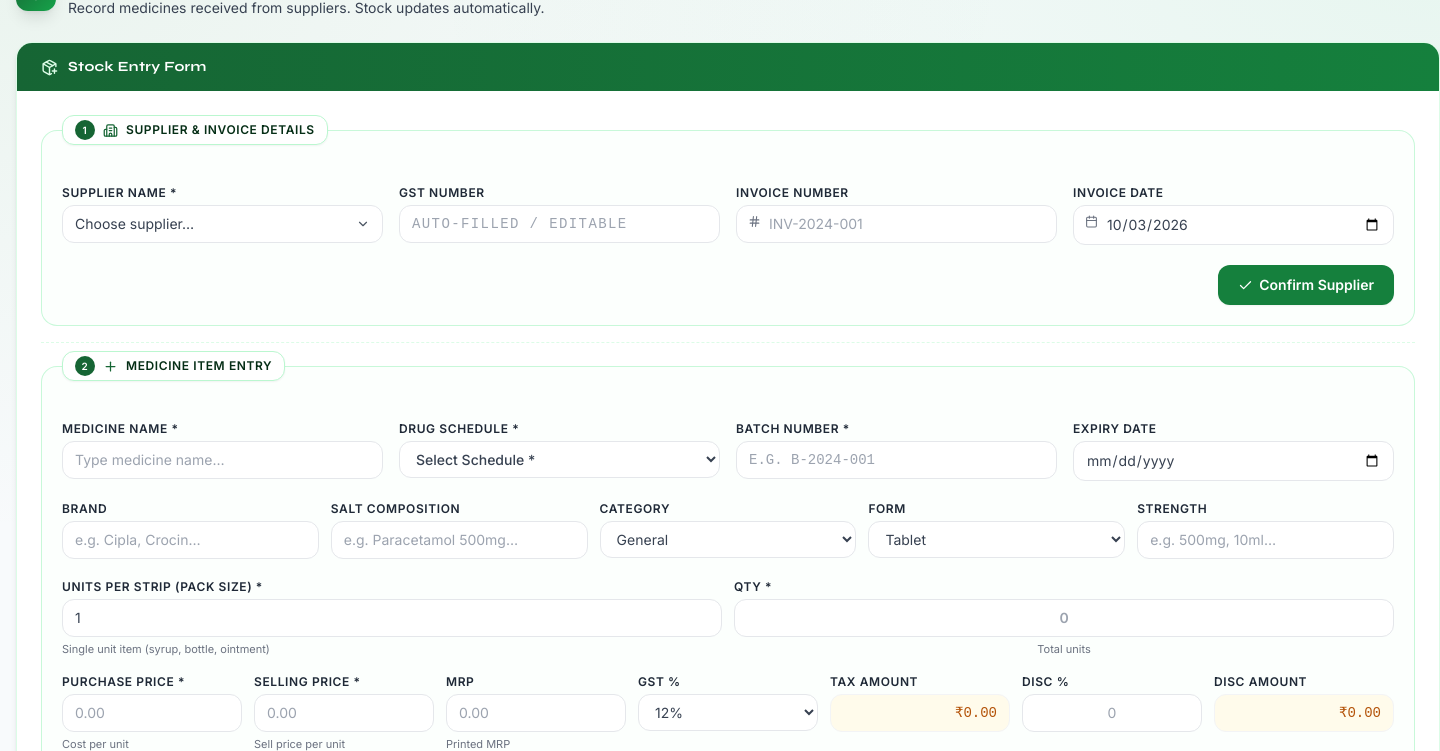
Test case: Integration: Purchases Flow (Items Table -> Schedule Validation -> API Submission) › adds an existing medicine entry with catalog schedule badge
Type "Amoxicillin 250mg" into the dropdown with placeholder "Type medicine name…" at (222, 460), box [62,441,383,479]
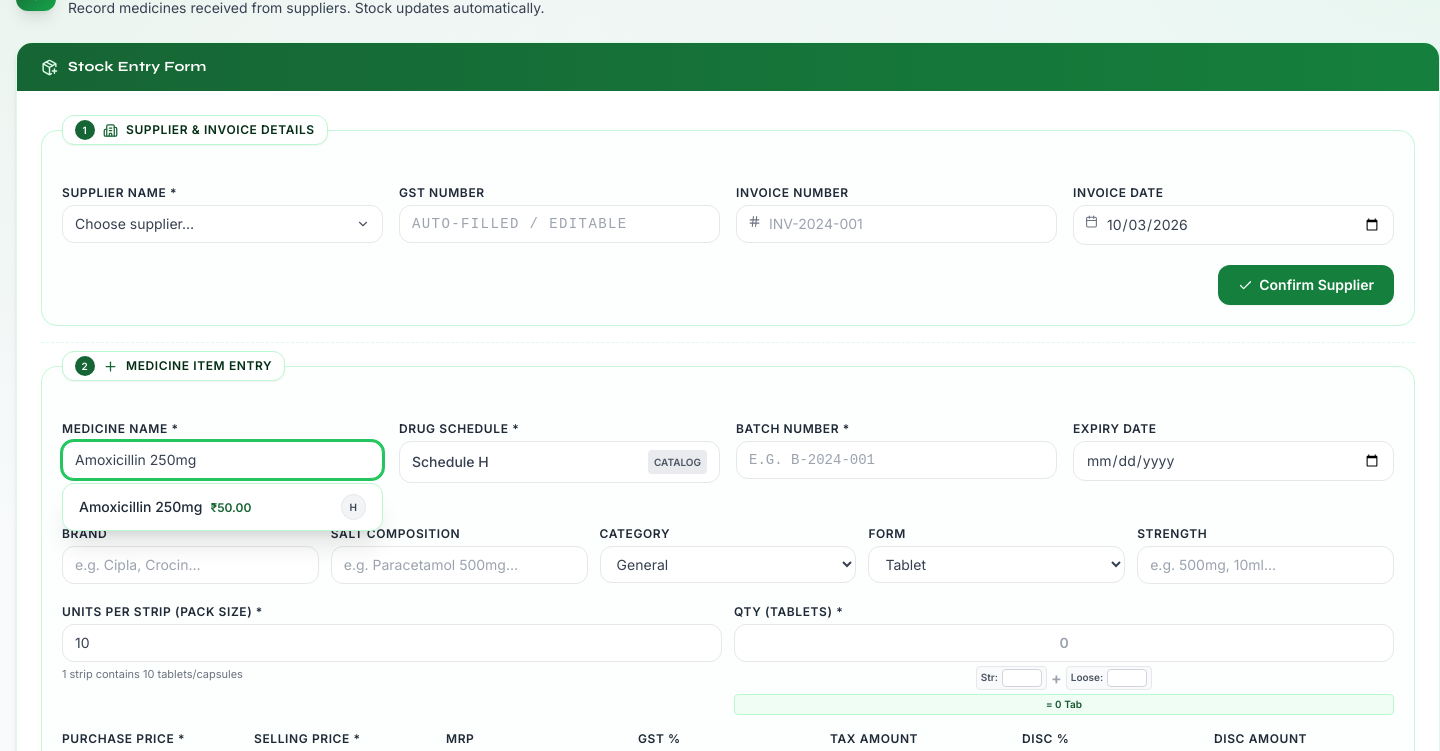
Check: the text "Amoxicillin 250mg" is shown, box [79,498,202,515]
Click the option "Amoxicillin 250mg₹50.00 H" at (222, 507), box [63,484,382,530]
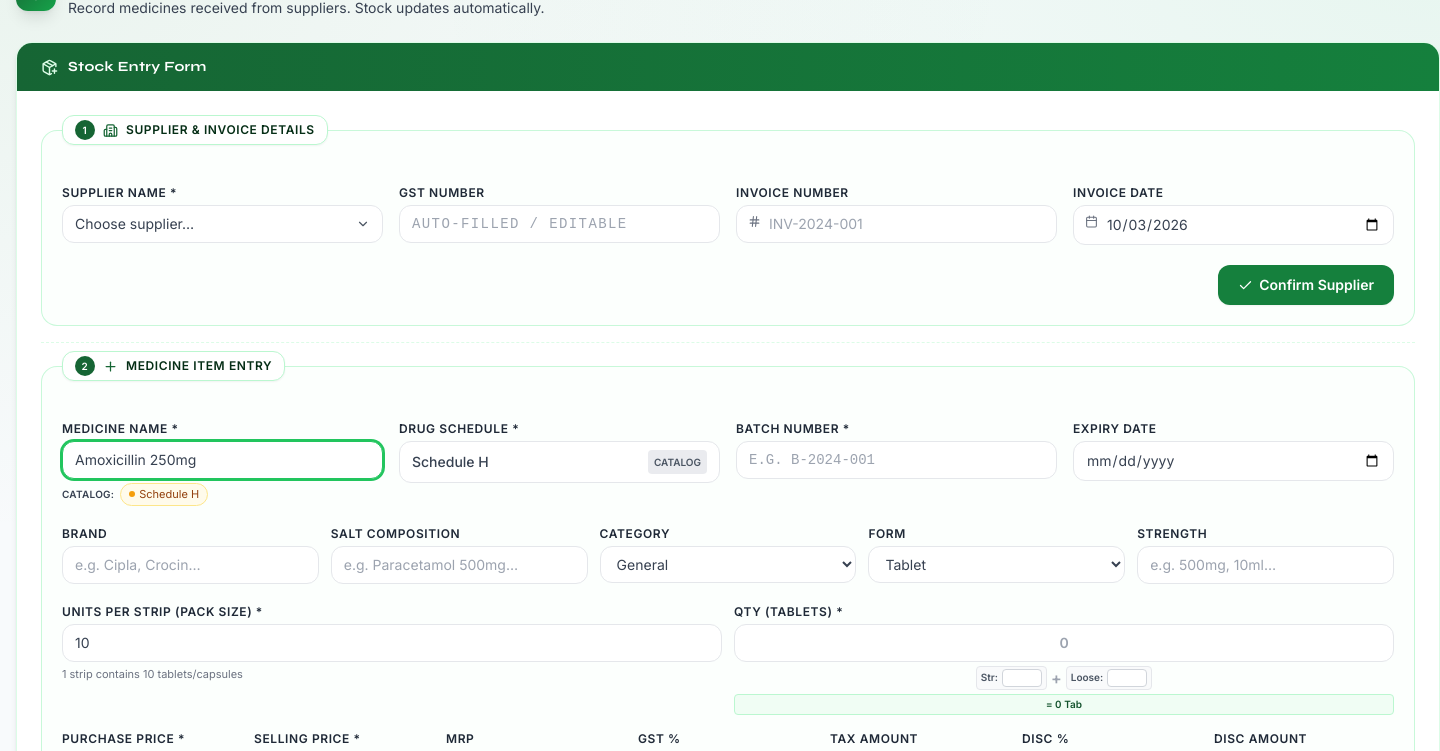
Check: the text "Schedule H" is shown, box [120,483,208,506]
Type "BATCH-H-001" into the field labelled "Batch Number *" at (896, 460), box [736,441,1057,479]
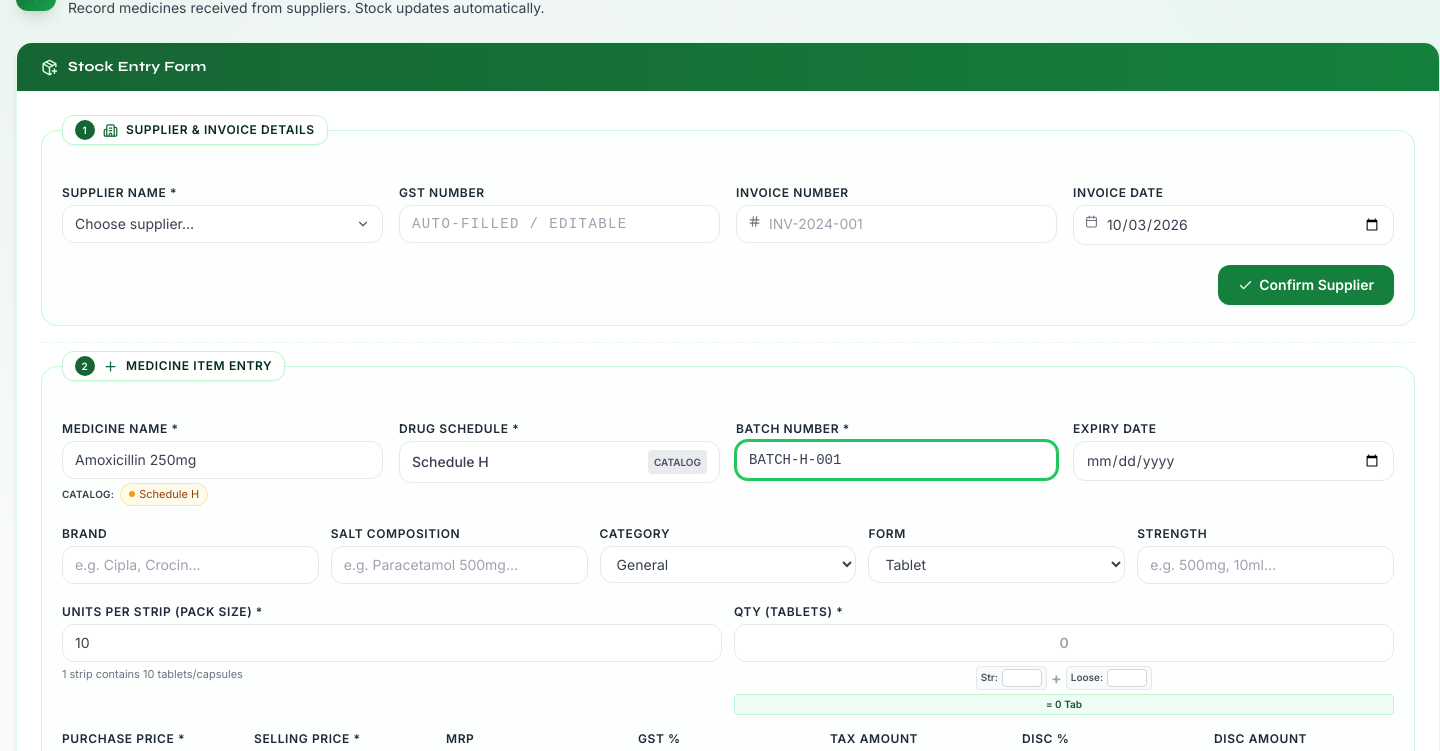
Type "50" into the number field labelled "Qty (Tablets) *" at (1064, 642), box [734,624,1394,662]
(page scrolled)
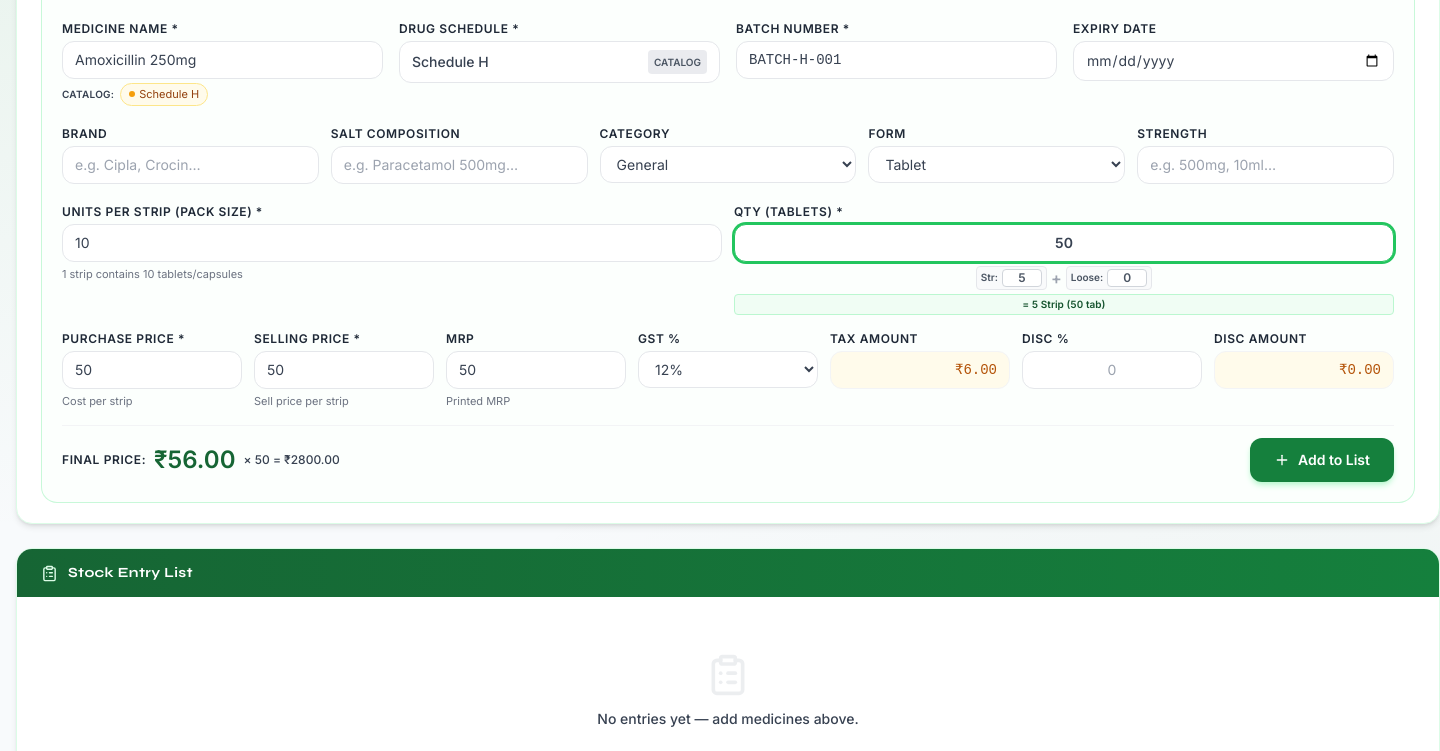
Replace the text in the number field labelled "Purchase Price *" with "45" at (152, 370), box [62,350,242,388]
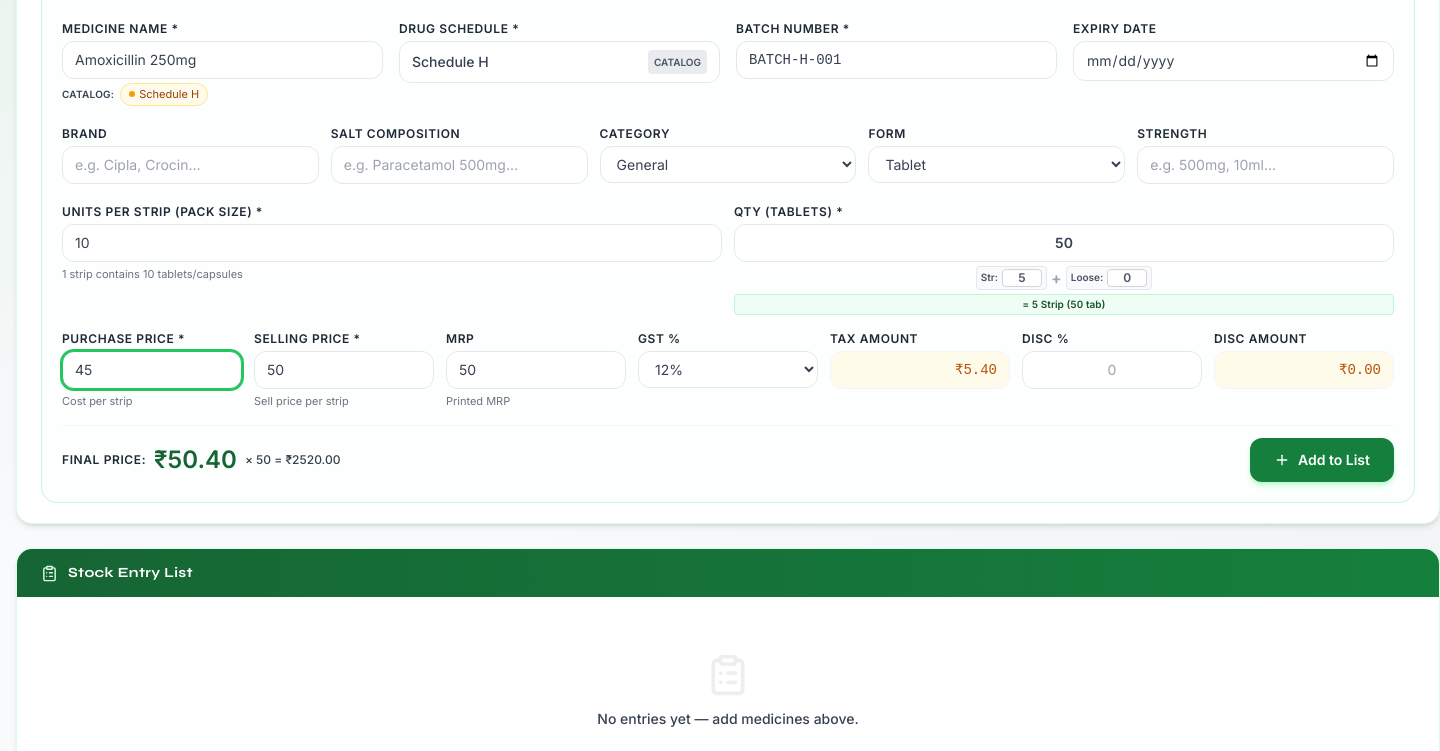
Click the button "Add to List" at (1322, 460), box [1250,438,1394,482]
(page scrolled)
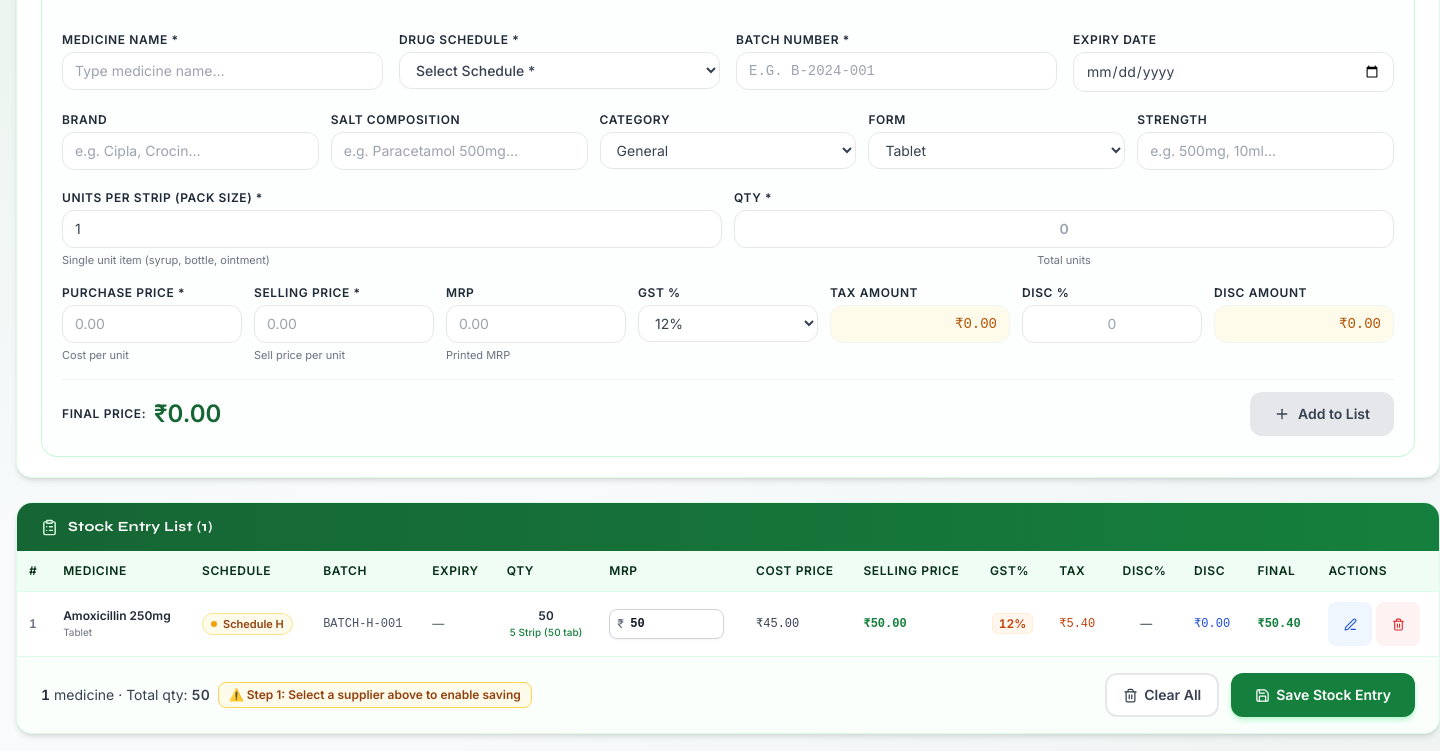
Check: the text "BATCH-H-001" is shown, box [311,592,420,656]
Check: the heading "Stock Entry List (1)" is shown, box [68,517,213,537]
